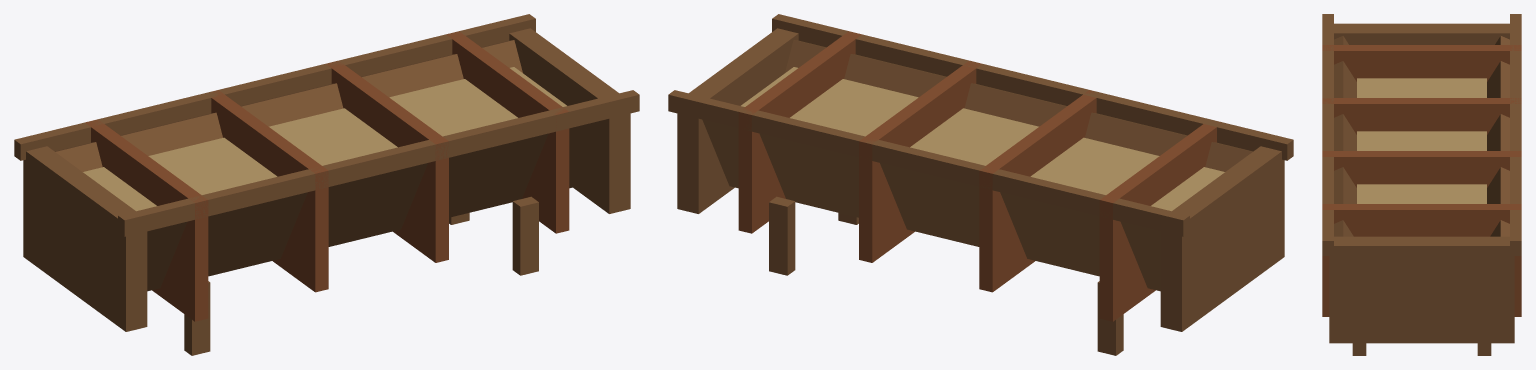
Rendered from FARM_TROUGH_TIMBER_LODs.fbx.
3 renders of one model, left to right at view 1: azimuth 30°, elevation 25°; view 2: azimuth 150°, elevation 25°; view 3: azimuth 270°, elevation 25°, orthographic. The views are drawn at different scales.
Visible parts, largest first — view 1: FARM_TROUGH_TIMBER_LOD0; view 2: FARM_TROUGH_TIMBER_LOD0; view 3: FARM_TROUGH_TIMBER_LOD0.
Part boxes in pixels (left/top/right/bottom): FARM_TROUGH_TIMBER_LOD0: left=14, top=14, right=639, bottom=355; FARM_TROUGH_TIMBER_LOD0: left=668, top=14, right=1293, bottom=355; FARM_TROUGH_TIMBER_LOD0: left=1322, top=14, right=1521, bottom=355.
Size of what is drawn, in the model's own units: 2.05 by 0.64 by 0.76.
